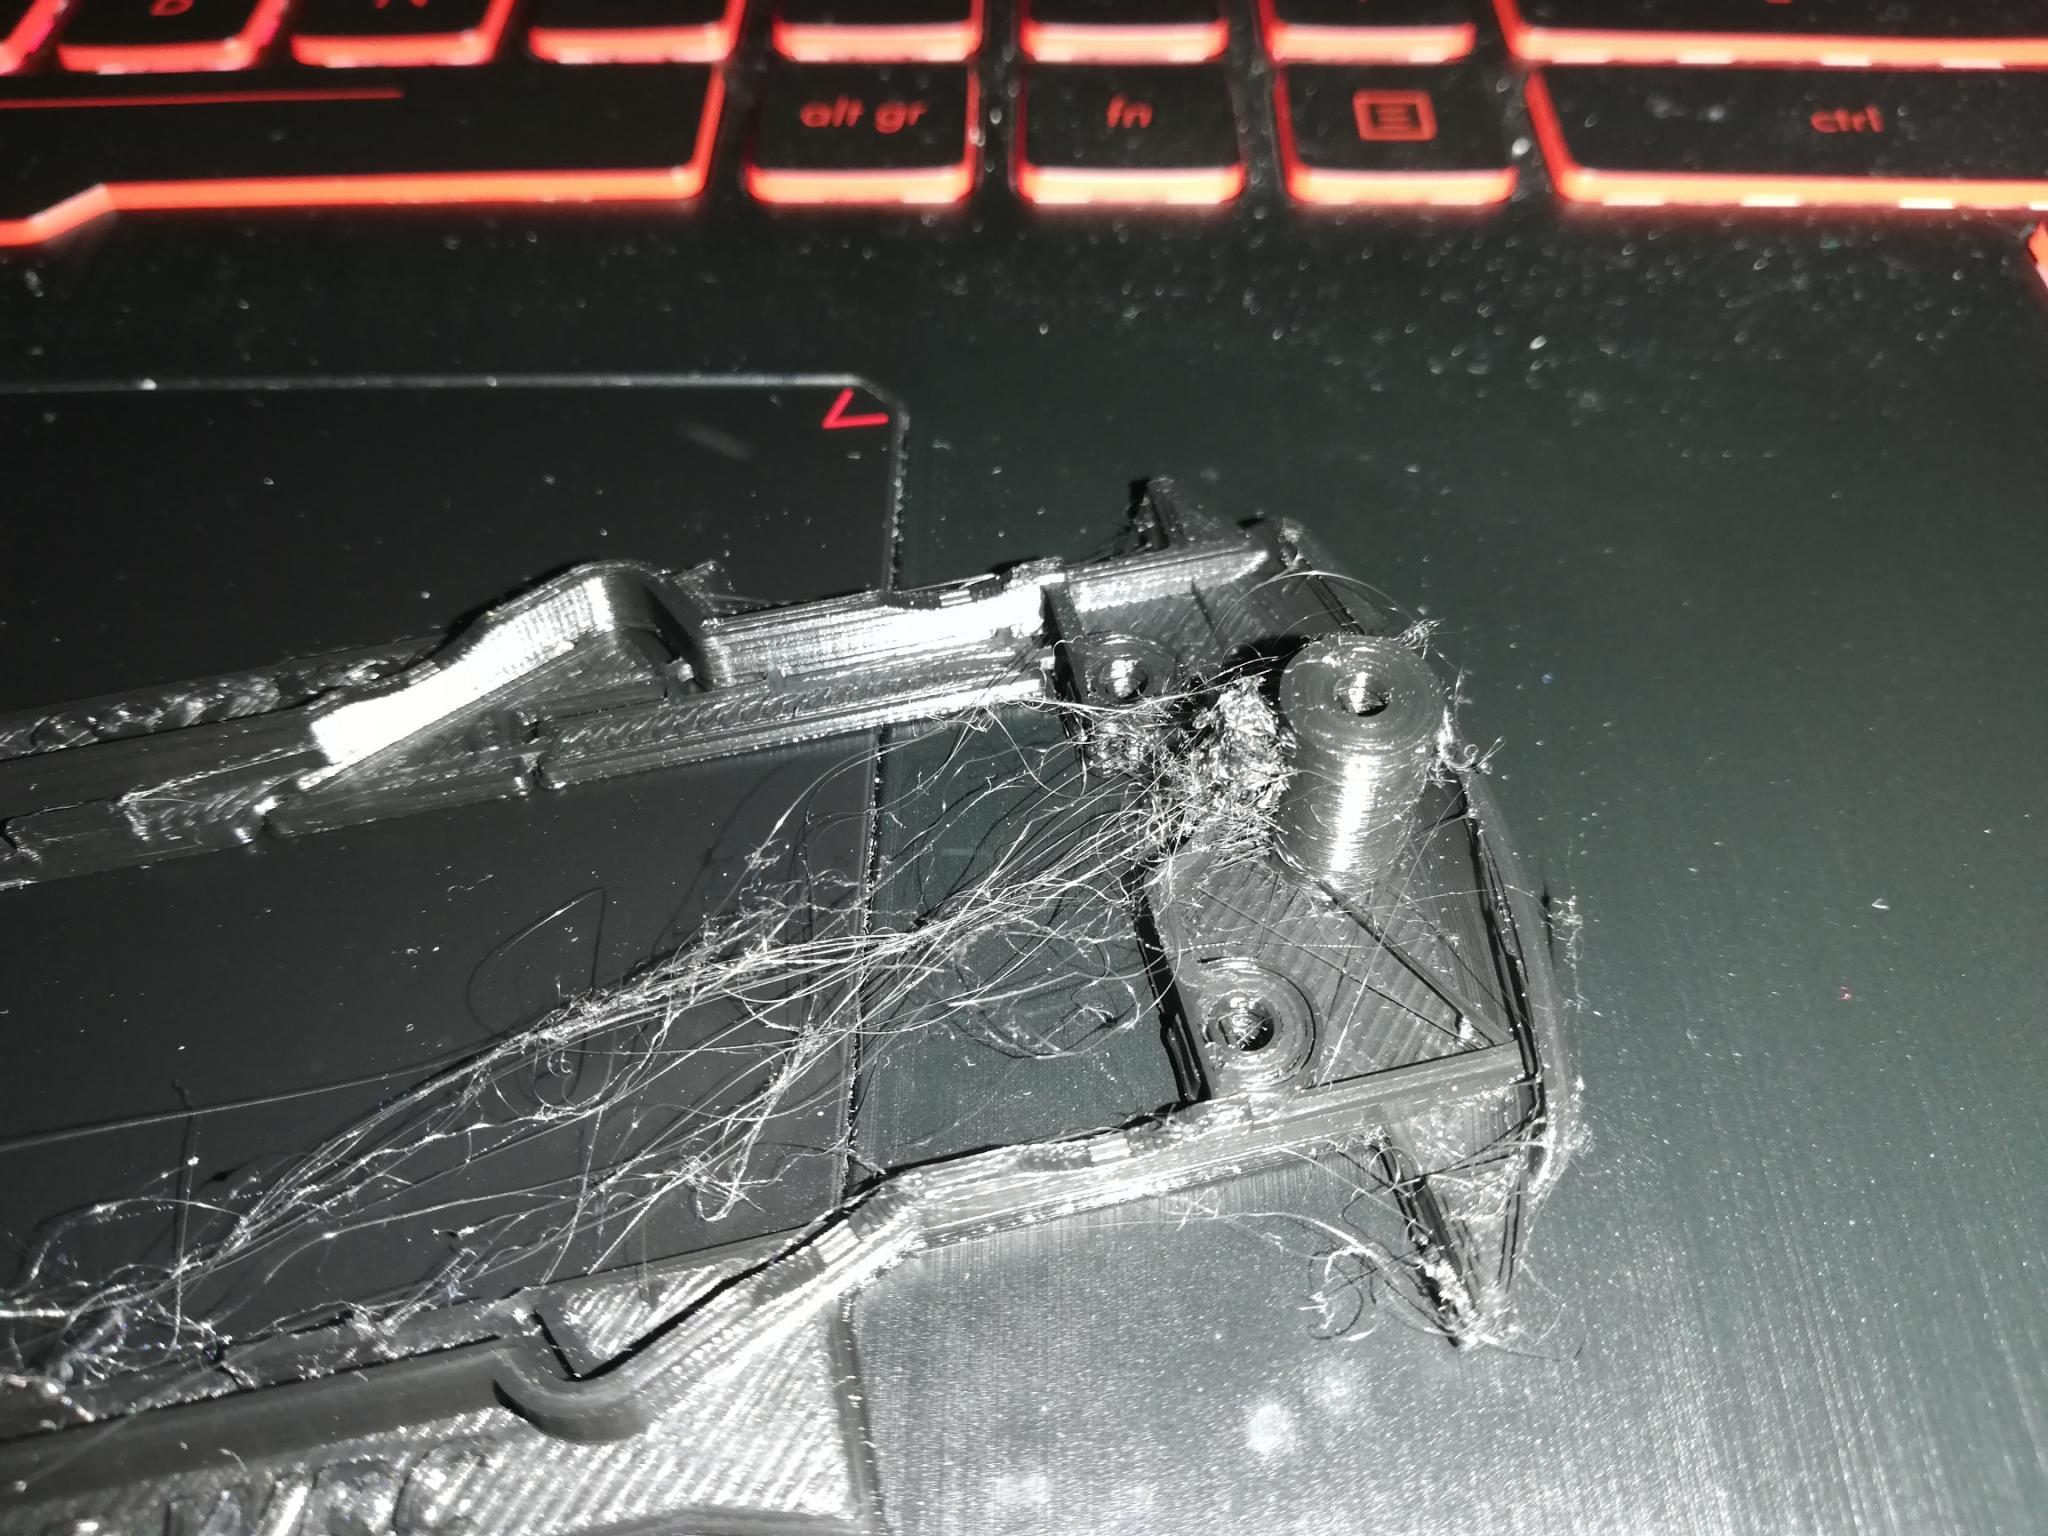Printing-Artifact: (156, 650, 1310, 1391)
